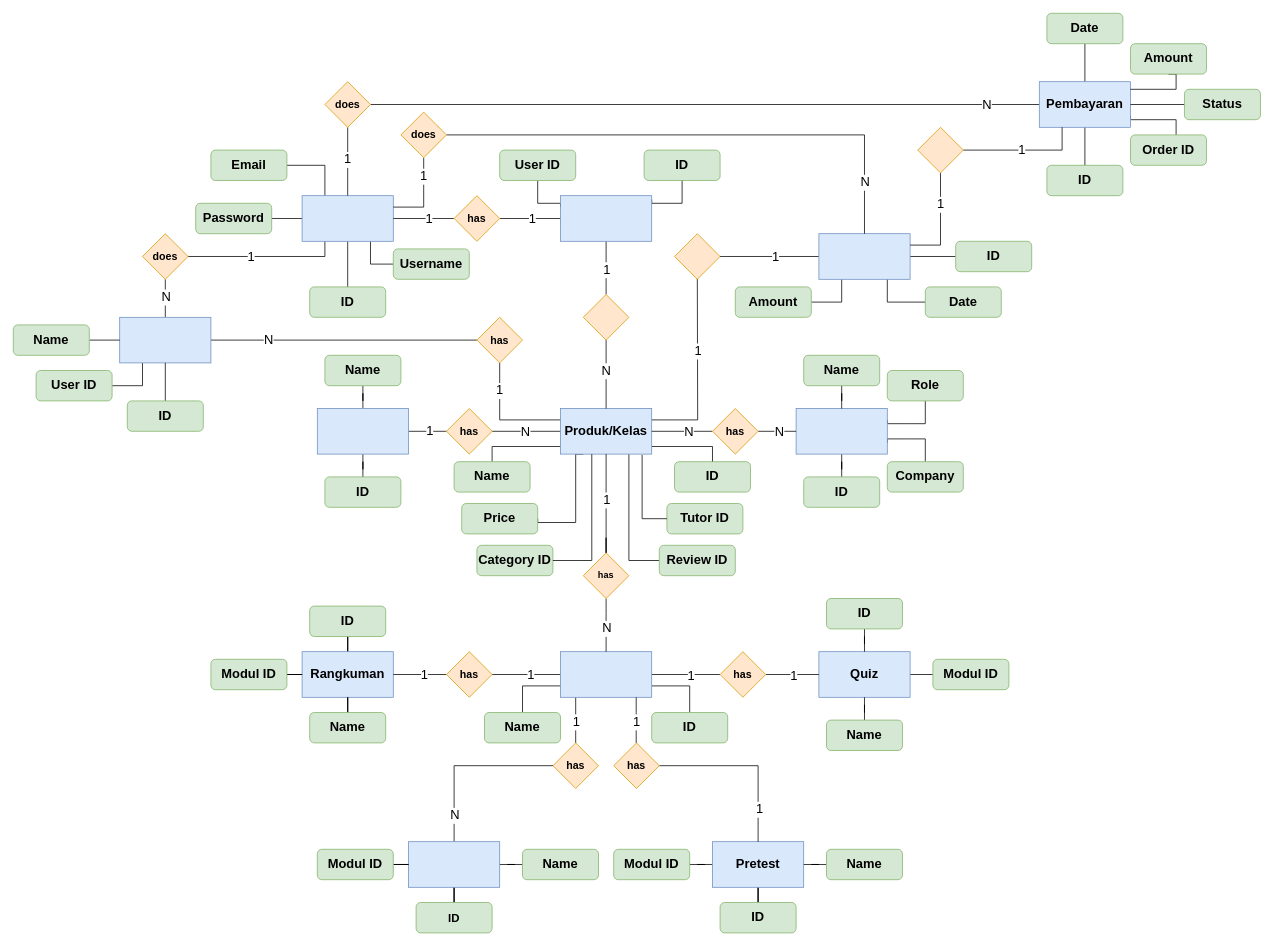
The diagram is 1274 pixels wide and 946 high, and some of its shapes have lost their labels. The centre of each missing label's shape, as x and y in pixels:
contains: [697,256]
done for: [940,150]
has (if status valid): [606,317]
Kategori Kelas: [362,431]
Kelas Saya: [606,218]
Modul Kelas: [606,674]
Order: [864,256]
Review: [165,340]
Tutor: [841,431]
User: [347,218]
Video: [454,864]
